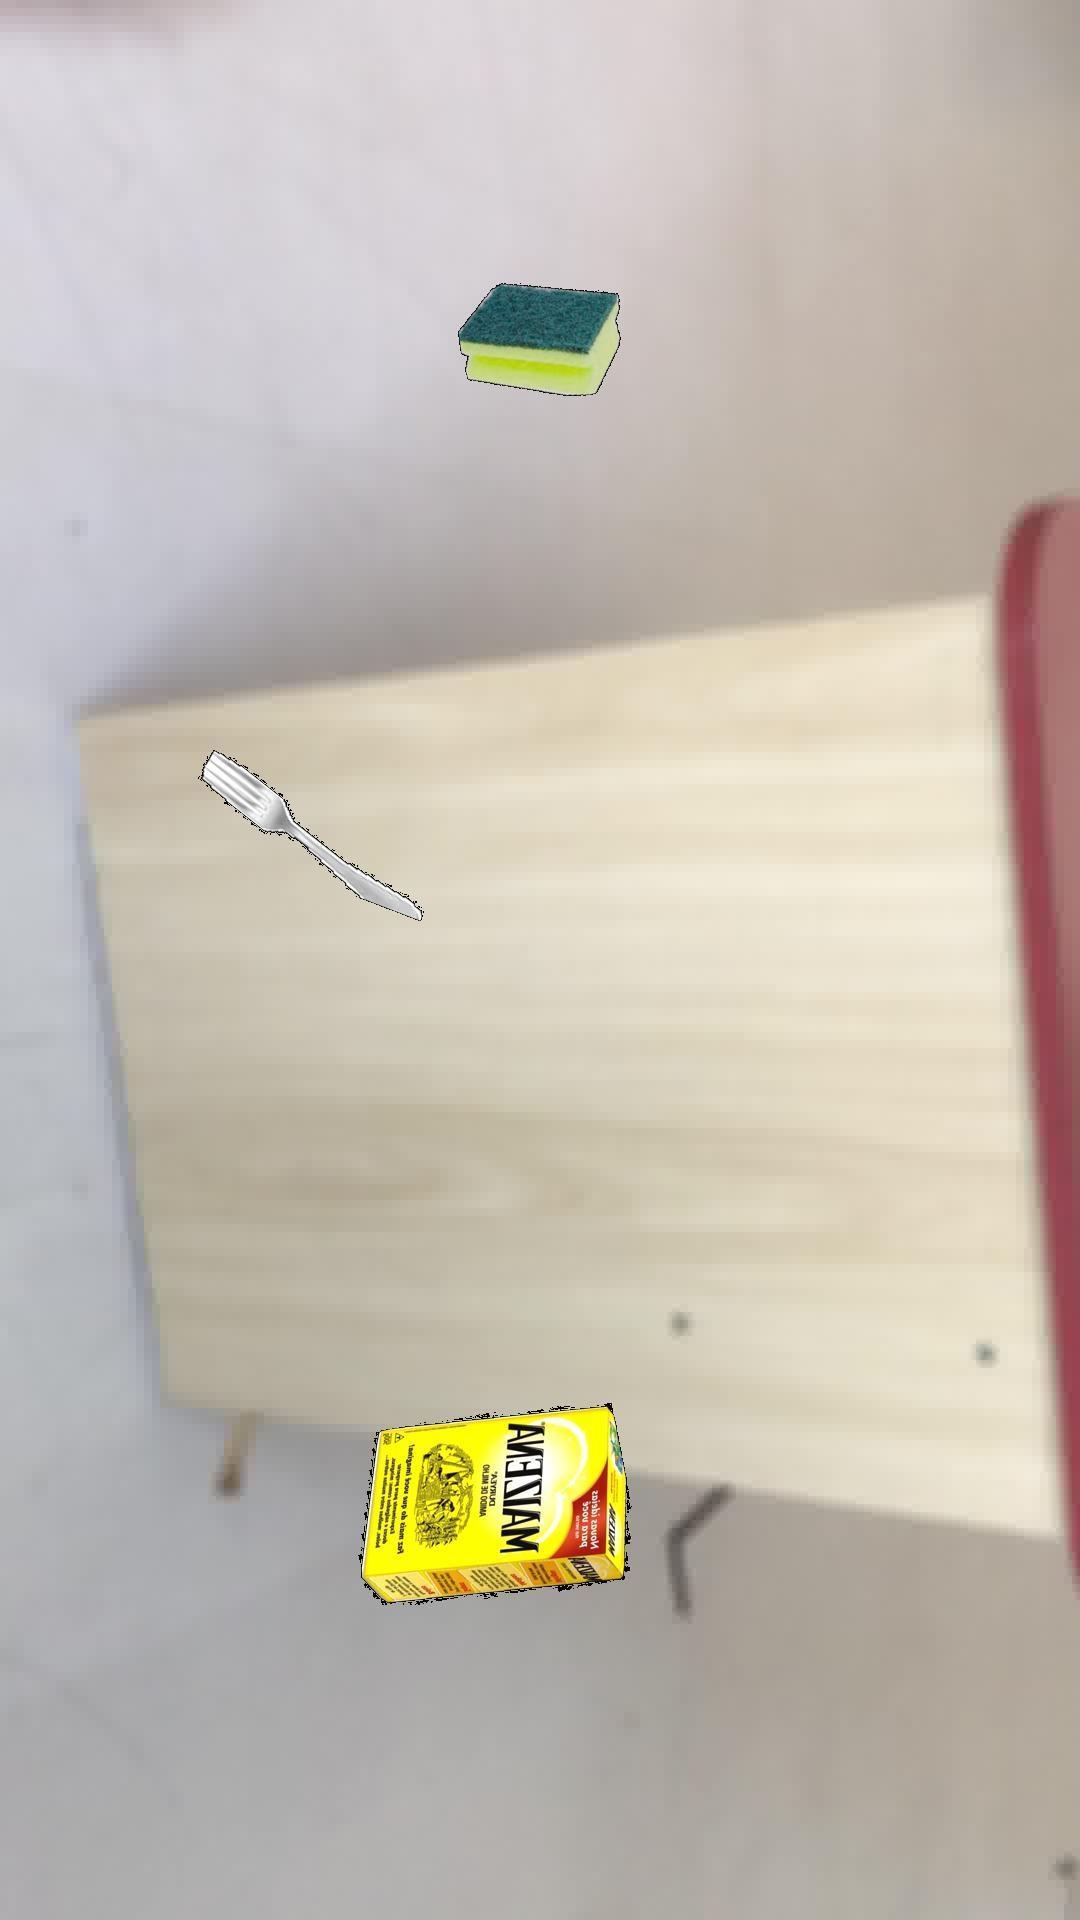fork: (199, 749, 422, 919)
sponge: (456, 281, 620, 394)
